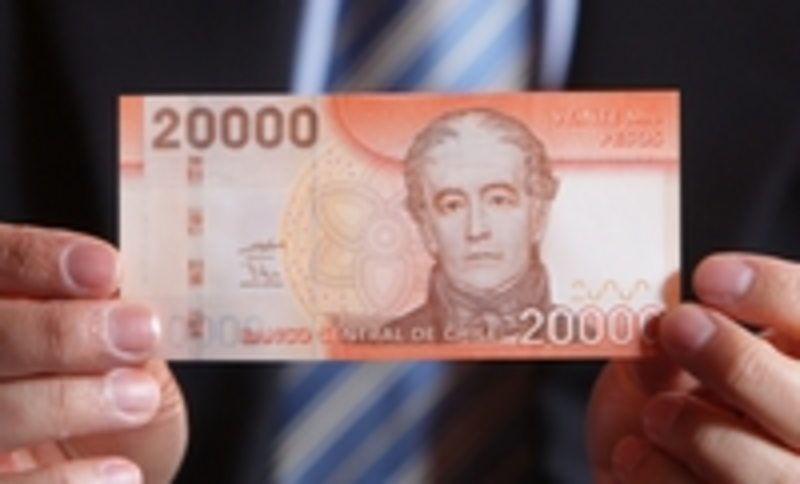billete: (118, 89, 681, 357)
